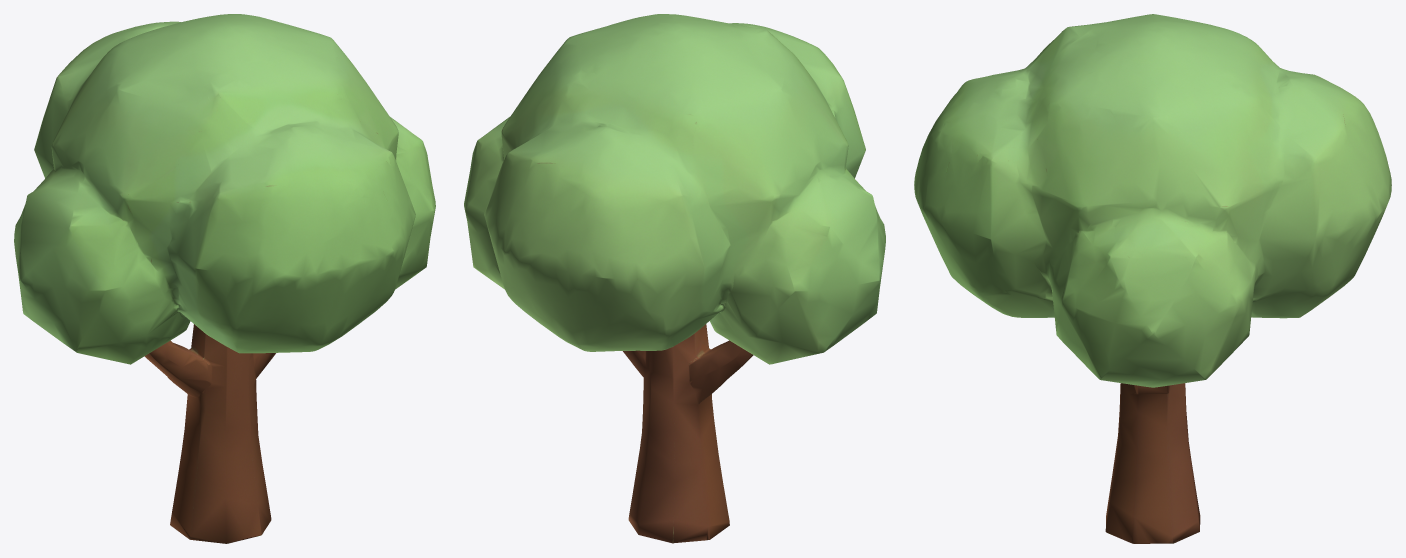
The model's file is tree.glb.
3 renders of one model, left to right at view 1: azimuth 30°, elevation 25°; view 2: azimuth 150°, elevation 25°; view 3: azimuth 270°, elevation 25°, orthographic.
Parts seen in each view (by area): view 1: Mesh_0; view 2: Mesh_0; view 3: Mesh_0.
Boxes of the visible parts, x1,y1,x2,y2 form: Mesh_0: (14, 14, 435, 543); Mesh_0: (464, 14, 885, 543); Mesh_0: (914, 14, 1391, 543).
Size of the model in its own units: 1.66 by 1.91 by 1.67.
1 material, 1 textured.
